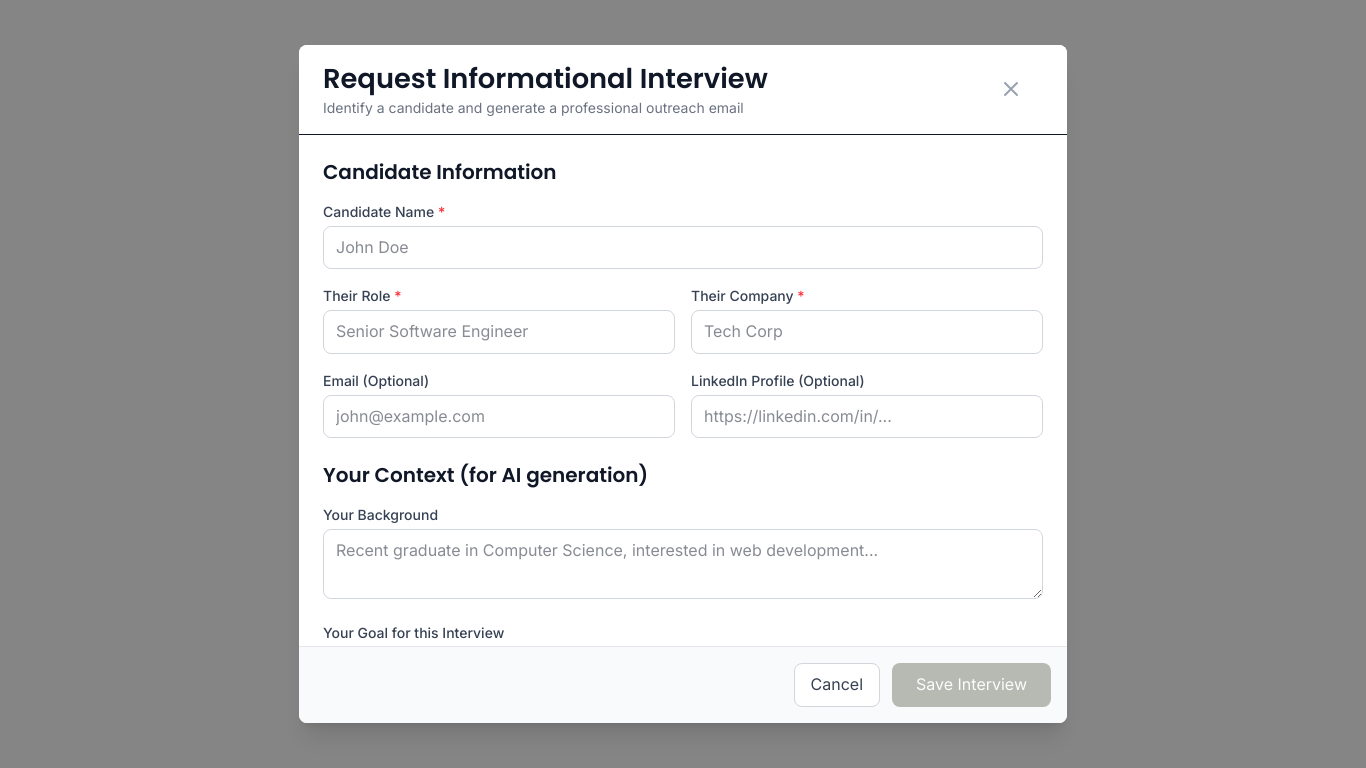
RequestInterviewModal › enables generate button when required fields are filled
Note: Fill in required fields
Type "Test Person" into the field with placeholder "John Doe" at point(683, 248), box x1=323 y1=226 x2=1043 y2=269
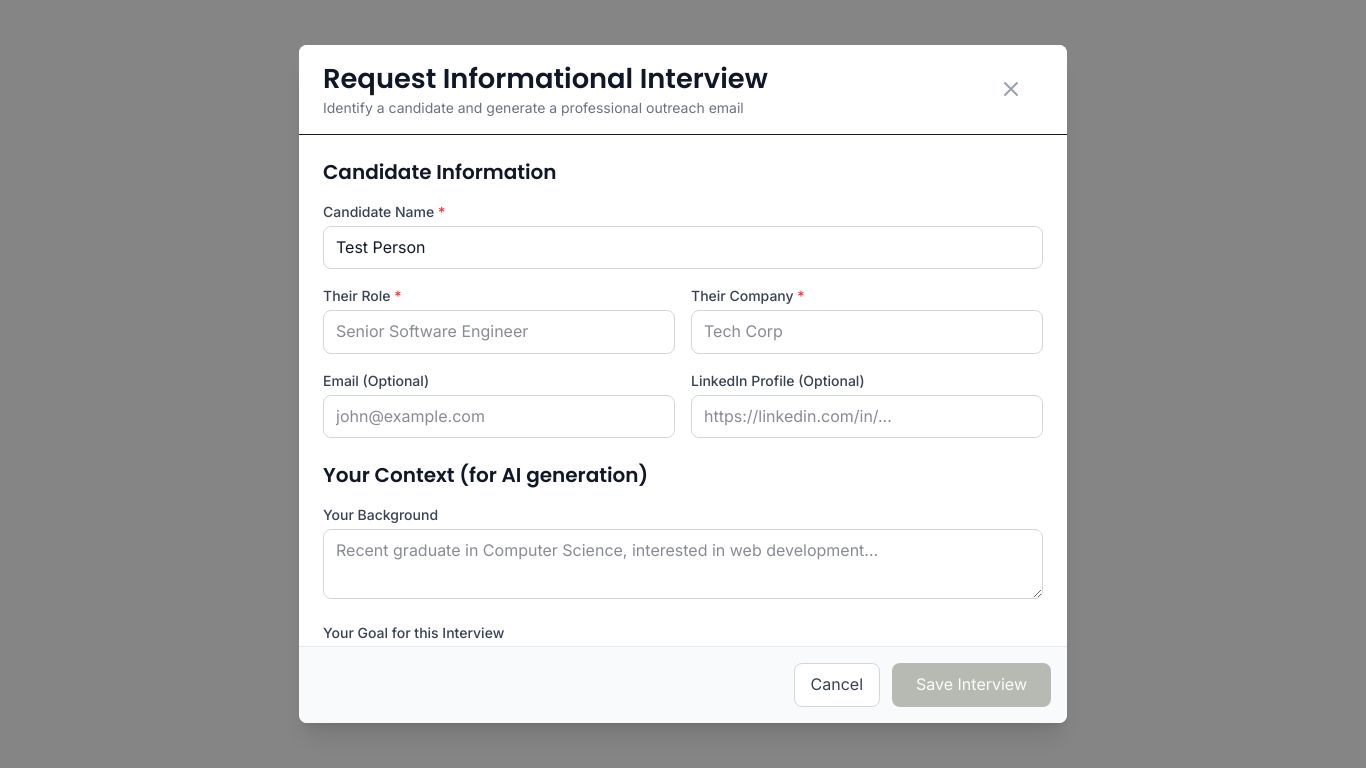
Type "Developer" into the field with placeholder "Senior Software Engineer" at point(499, 332), box x1=323 y1=310 x2=675 y2=354
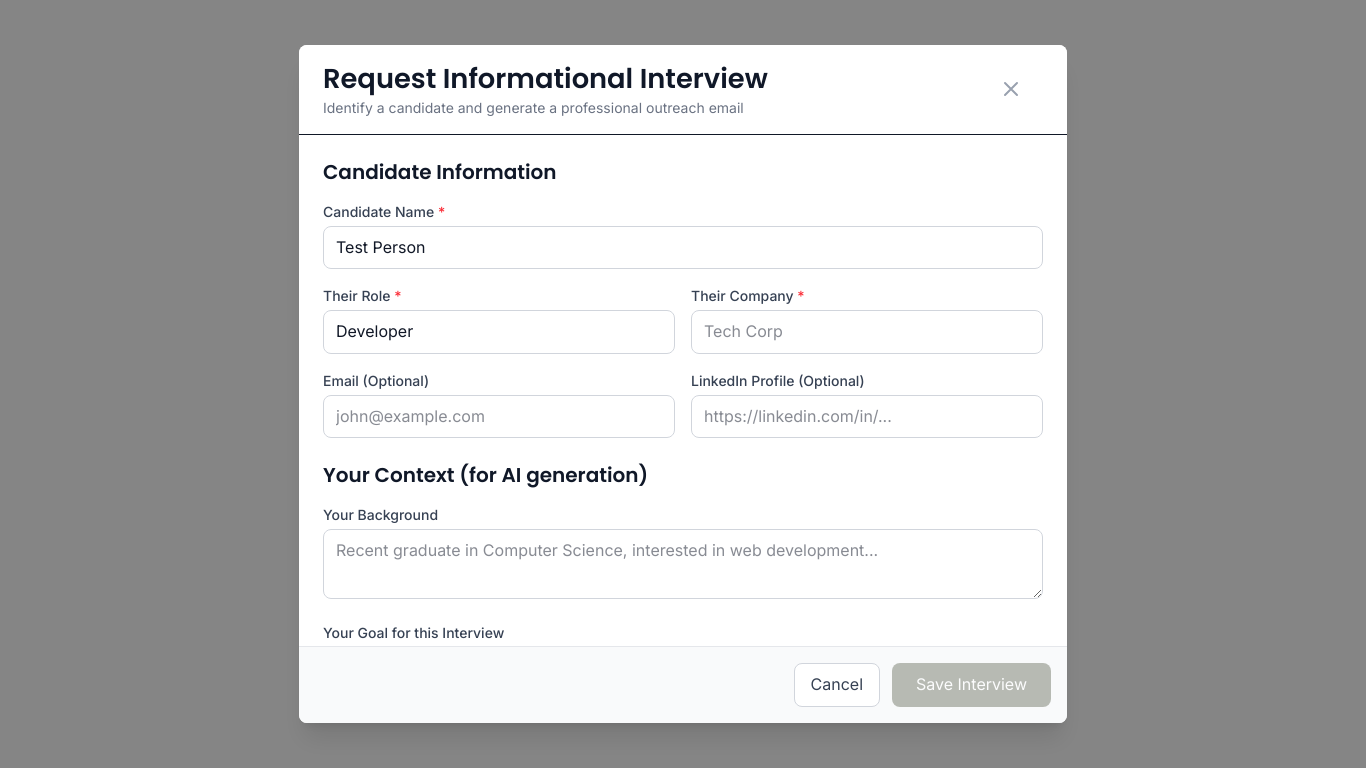
Type "TestCo" into the field with placeholder "Tech Corp" at point(867, 332), box x1=691 y1=310 x2=1043 y2=354
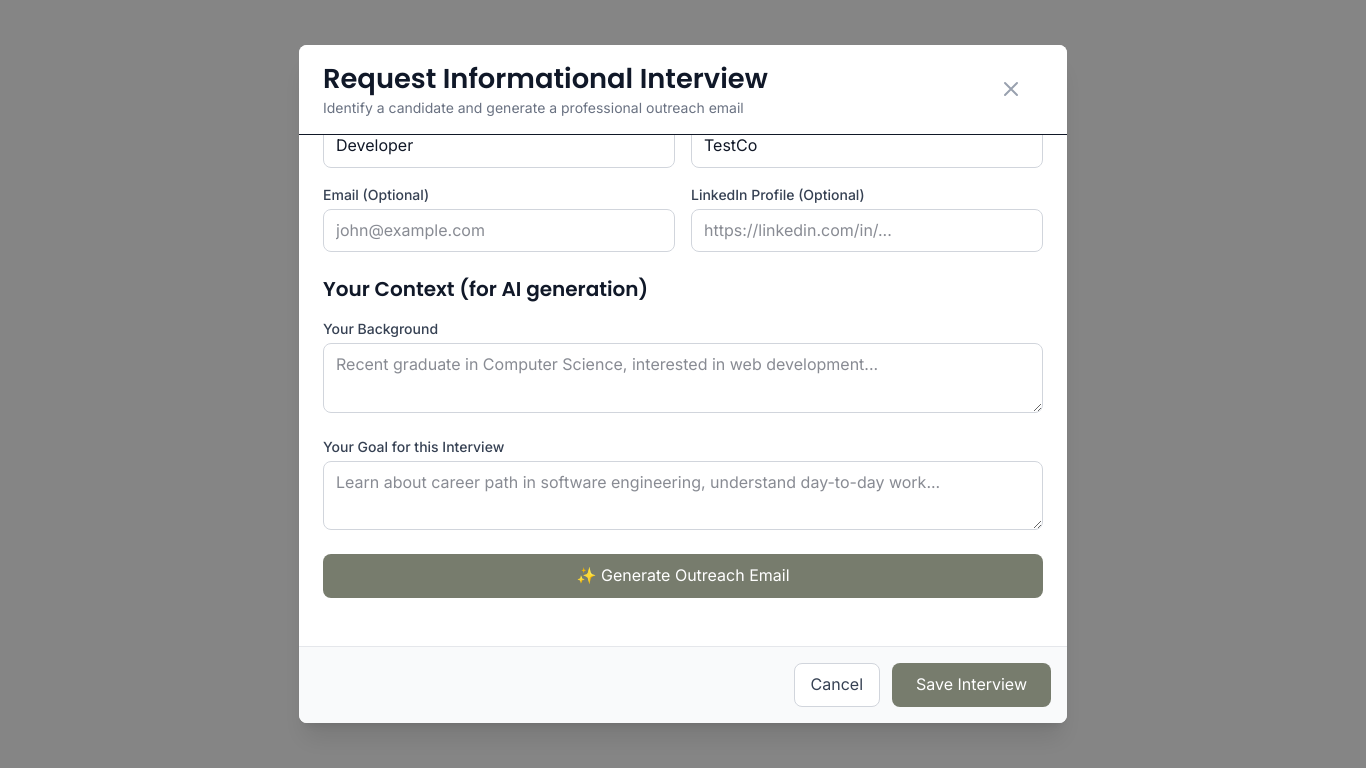
expect the button "✨ Generate Outreach Email" is enabled: met, box x1=323 y1=554 x2=1043 y2=598
